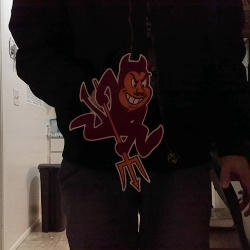sparky: (68, 52, 163, 192)
